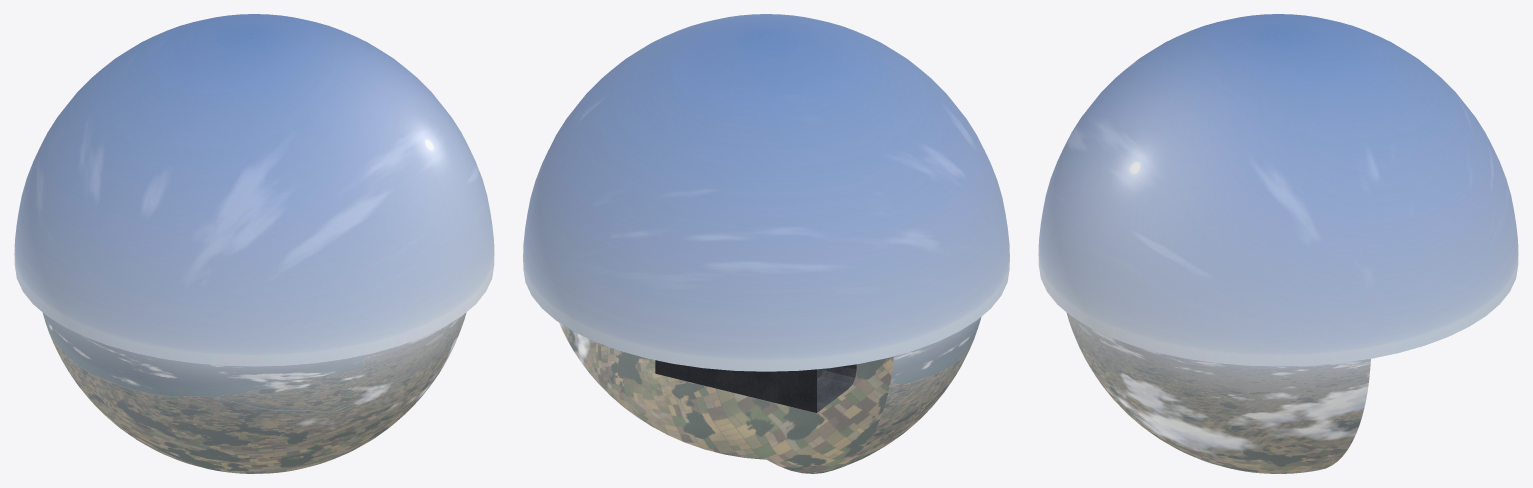
File: laputa.gltf
The picture shows the model from 3 angles, left to right: view 1: azimuth 30°, elevation 25°; view 2: azimuth 150°, elevation 25°; view 3: azimuth 270°, elevation 25°; orthographic projection.
Visible parts, largest first — view 1: SkyDome, far.Land; view 2: SkyDome, far.Land, MESH_Adamant; view 3: SkyDome, far.Land.
Boxes of the visible parts, <box> form: SkyDome: <box>14,14,494,366</box>; far.Land: <box>43,312,466,473</box>; SkyDome: <box>523,14,1009,371</box>; far.Land: <box>559,317,981,473</box>; MESH_Adamant: <box>655,360,856,412</box>; SkyDome: <box>1038,14,1518,366</box>; far.Land: <box>1066,312,1370,473</box>.
Size of the model in its own units: 240 by 230 by 240.
Materials: 23 (23 with a texture image).
